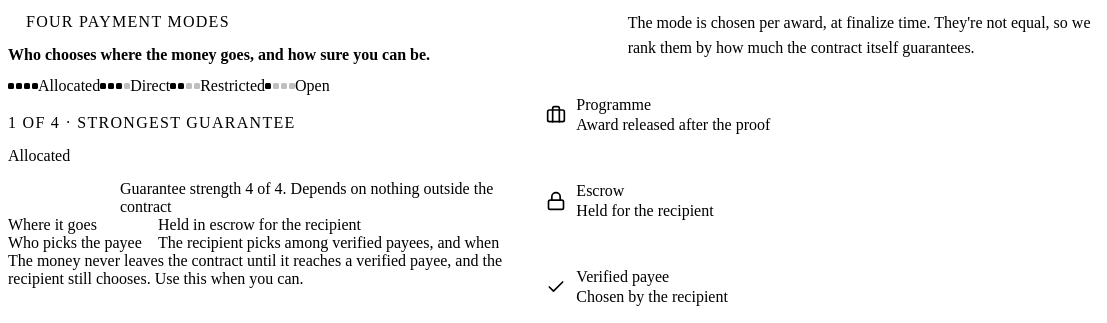
Scenario: PaymentModes › does not present Restricted as a sound guarantee, and says where nothing is checked
Click the tab "Restricted". click: [218, 86]
box: [170, 77, 265, 95]
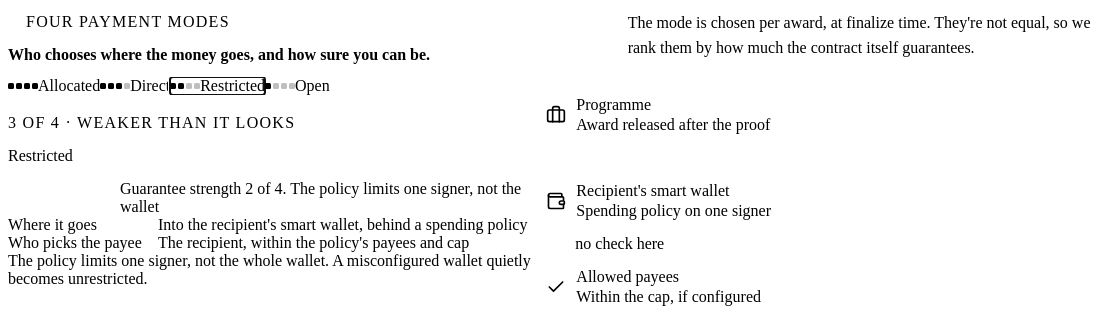
Expected: the text "3 of 4 · Weaker than it looks" is shown, [8, 114, 295, 131]
Expected: the text "A misconfigured wallet quietly becomes unrestricted." is shown, [8, 252, 531, 287]
Expected: the text "no check here" is shown, [575, 235, 664, 253]
